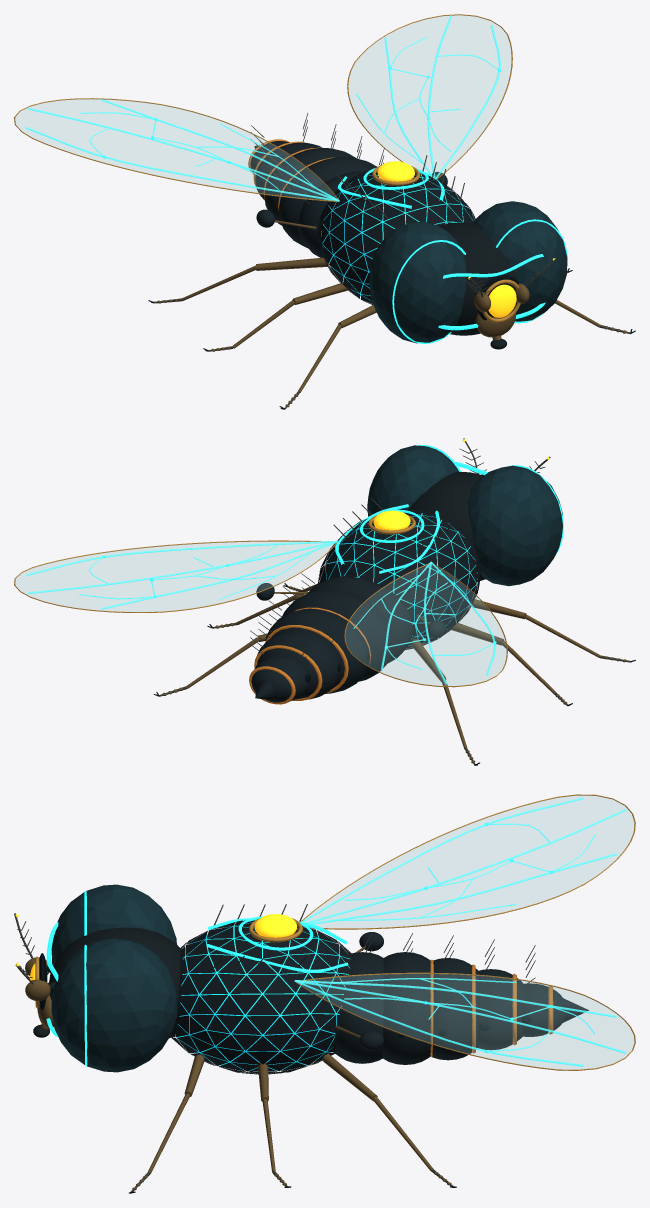
File: mirror-gap-v3.0.0.glb
3 renders of one model, top to bottom at view 1: azimuth 30°, elevation 25°; view 2: azimuth 150°, elevation 25°; view 3: azimuth 270°, elevation 25°, orthographic. The views are drawn at different scales.
Parts seen in each view (by area): view 1: Thin_wing_membrane (×2), Separate_head_Left_compound_eye_batch, Faceted_obsidian_thorax, Horizontal_segmented_abdomen_Abdominal_segment_1_batch, Head_capsule, Left_single_membrane_wing_Cyan_neural_wing_vein_1_batch, Right_single_membrane_wing_Cyan_neural_wing_vein_1_batch, Costal_wing_gold_edge (×2), Thorax_inner_cyan_fissures, Separate_head_Cyan_compound_eye_rim_batch, Facial_amber_core, Thorax_pitch_and_bank_Dorsal_core_cyan_fissure_batch (+4 smaller); view 2: Thin_wing_membrane (×2), Separate_head_Left_compound_eye_batch, Horizontal_segmented_abdomen_Abdominal_segment_1_batch, Faceted_obsidian_thorax, Right_single_membrane_wing_Cyan_neural_wing_vein_1_batch, Head_capsule, Thorax_inner_cyan_fissures, Costal_wing_gold_edge (×2), Horizontal_segmented_abdomen_Amber_tergite_seam_1_batch, Left_single_membrane_wing_Cyan_neural_wing_vein_1_batch, Thorax_pitch_and_bank_Dorsal_core_cyan_fissure_batch, Dorsal_amber_core (+1 smaller); view 3: Thin_wing_membrane (×2), Faceted_obsidian_thorax, Separate_head_Left_compound_eye_batch, Horizontal_segmented_abdomen_Abdominal_segment_1_batch, Thorax_inner_cyan_fissures, Right_single_membrane_wing_Cyan_neural_wing_vein_1_batch, Left_single_membrane_wing_Cyan_neural_wing_vein_1_batch, Costal_wing_gold_edge (×2), Head_capsule, Thorax_pitch_and_bank_Dorsal_core_cyan_fissure_batch, Horizontal_segmented_abdomen_Amber_tergite_seam_1_batch, Separate_head_Cyan_compound_eye_rim_batch (+2 smaller).
Part boxes in pixels (<box>): Thin_wing_membrane (×2): <box>15,15,511,199</box>; Separate_head_Left_compound_eye_batch: <box>369,201,567,343</box>; Faceted_obsidian_thorax: <box>318,172,475,304</box>; Horizontal_segmented_abdomen_Abdominal_segment_1_batch: <box>250,141,376,257</box>; Head_capsule: <box>439,222,518,335</box>; Left_single_membrane_wing_Cyan_neural_wing_vein_1_batch: <box>25,99,339,201</box>; Right_single_membrane_wing_Cyan_neural_wing_vein_1_batch: <box>356,15,500,178</box>; Costal_wing_gold_edge (×2): <box>14,14,512,201</box>; Thorax_inner_cyan_fissures: <box>321,174,472,300</box>; Separate_head_Cyan_compound_eye_rim_batch: <box>392,219,567,343</box>; Facial_amber_core: <box>488,284,516,317</box>; Thorax_pitch_and_bank_Dorsal_core_cyan_fissure_batch: <box>338,168,444,208</box>; Thin_wing_membrane (×2): <box>15,541,506,685</box>; Separate_head_Left_compound_eye_batch: <box>367,445,562,586</box>; Horizontal_segmented_abdomen_Abdominal_segment_1_batch: <box>251,576,412,702</box>; Faceted_obsidian_thorax: <box>317,509,480,649</box>; Right_single_membrane_wing_Cyan_neural_wing_vein_1_batch: <box>25,540,337,609</box>; Head_capsule: <box>408,472,485,581</box>; Thorax_inner_cyan_fissures: <box>325,513,477,645</box>; Costal_wing_gold_edge (×2): <box>14,540,507,687</box>; Horizontal_segmented_abdomen_Amber_tergite_seam_1_batch: <box>249,607,371,704</box>; Left_single_membrane_wing_Cyan_neural_wing_vein_1_batch: <box>353,561,496,684</box>; Thorax_pitch_and_bank_Dorsal_core_cyan_fissure_batch: <box>335,504,440,573</box>; Dorsal_amber_core: <box>373,510,410,530</box>; Thin_wing_membrane (×2): <box>301,795,634,1069</box>; Faceted_obsidian_thorax: <box>171,920,355,1074</box>; Separate_head_Left_compound_eye_batch: <box>51,884,177,1072</box>; Horizontal_segmented_abdomen_Abdominal_segment_1_batch: <box>333,952,564,1064</box>; Thorax_inner_cyan_fissures: <box>175,922,350,1070</box>; Right_single_membrane_wing_Cyan_neural_wing_vein_1_batch: <box>294,978,625,1066</box>; Left_single_membrane_wing_Cyan_neural_wing_vein_1_batch: <box>301,797,626,924</box>; Costal_wing_gold_edge (×2): <box>295,794,635,1070</box>; Head_capsule: <box>49,927,182,1038</box>; Thorax_pitch_and_bank_Dorsal_core_cyan_fissure_batch: <box>206,916,348,972</box>; Horizontal_segmented_abdomen_Amber_tergite_seam_1_batch: <box>430,959,553,1056</box>; Separate_head_Cyan_compound_eye_rim_batch: <box>46,890,87,1066</box>.
Size of what is drawn, in the model's own units: 1.6 by 0.5331 by 1.6.
